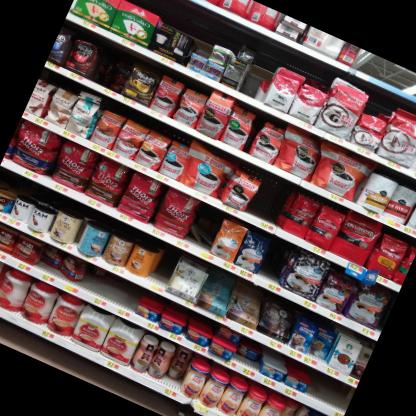empty_space: (243, 171, 296, 232), (87, 269, 141, 320), (301, 369, 356, 416), (252, 236, 295, 291), (145, 244, 181, 295), (232, 58, 268, 105)
